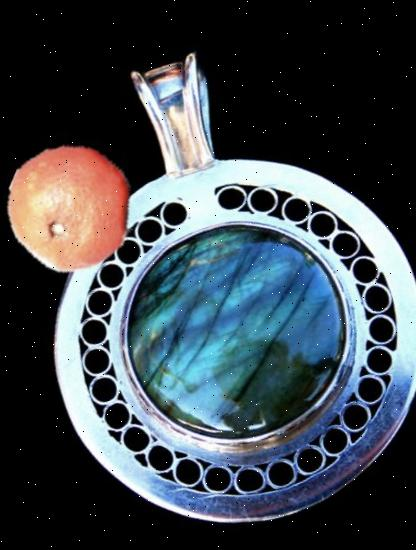Clementine: (0, 126, 154, 291)
